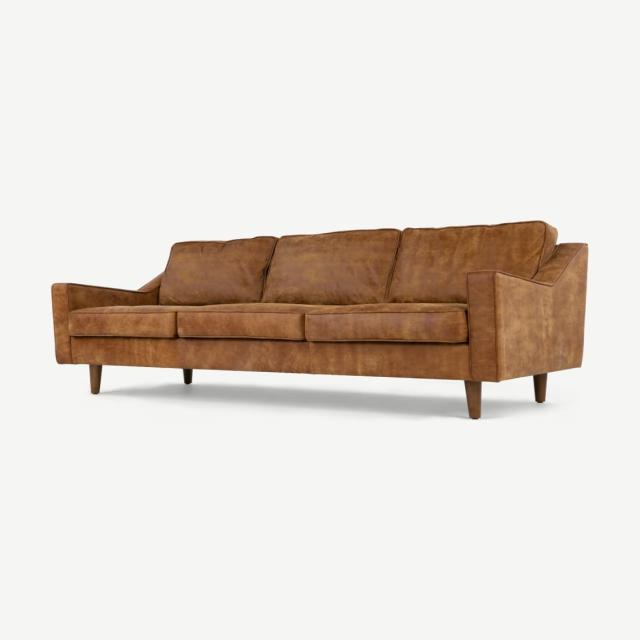back_cushion: (158, 221, 556, 305)
left_arm: (469, 244, 587, 381)
legs: (464, 380, 481, 419), (89, 364, 101, 394), (534, 374, 545, 402), (180, 369, 192, 384), (236, 385, 248, 396)
right_arm: (52, 276, 159, 363)
seat_cushion: (67, 303, 470, 379)
stallion-sofa: (0, 0, 639, 639)
